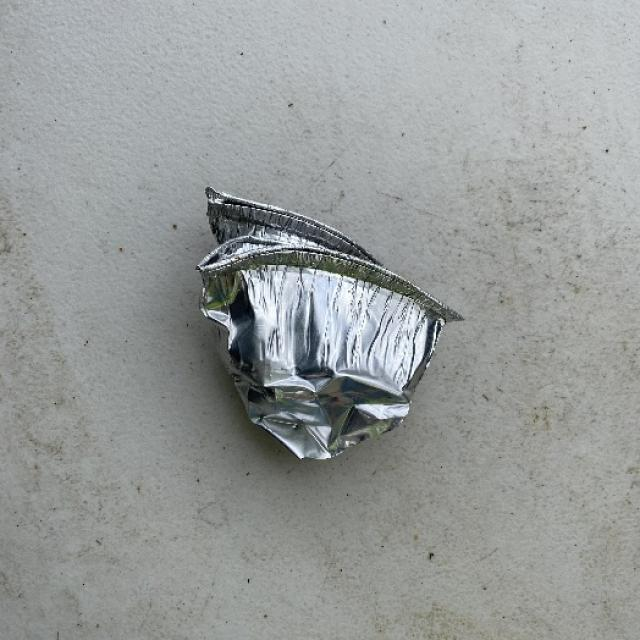inorganic: (193, 184, 469, 468)
